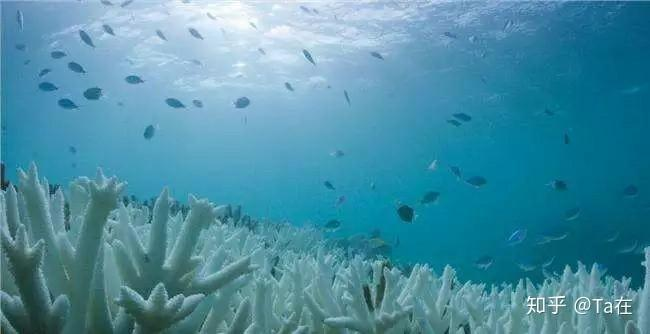bleached_corals: (0, 165, 650, 334)
